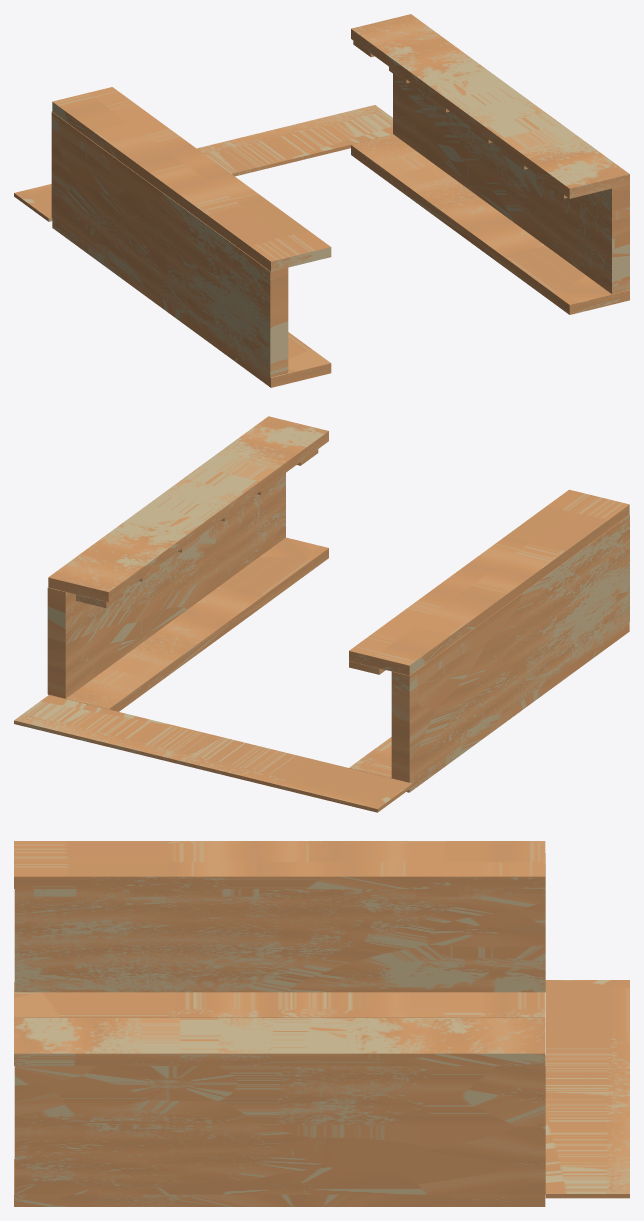
The model's file is PCBuilding.fbx.
3 views of the same model, one above another, from view 1: azimuth 30°, elevation 25°; view 2: azimuth 150°, elevation 25°; view 3: azimuth 270°, elevation 25° (orthographic). The views are drawn at different scales.
Visible parts, largest first — view 1: Structure; view 2: Structure; view 3: Structure.
Boxes of the visible parts, <box> form: Structure: <box>14,14,629,387</box>; Structure: <box>14,416,629,812</box>; Structure: <box>14,841,629,1206</box>.
Size of the model in its own units: 3011 by 1002 by 3650.
1 material, 1 textured.
